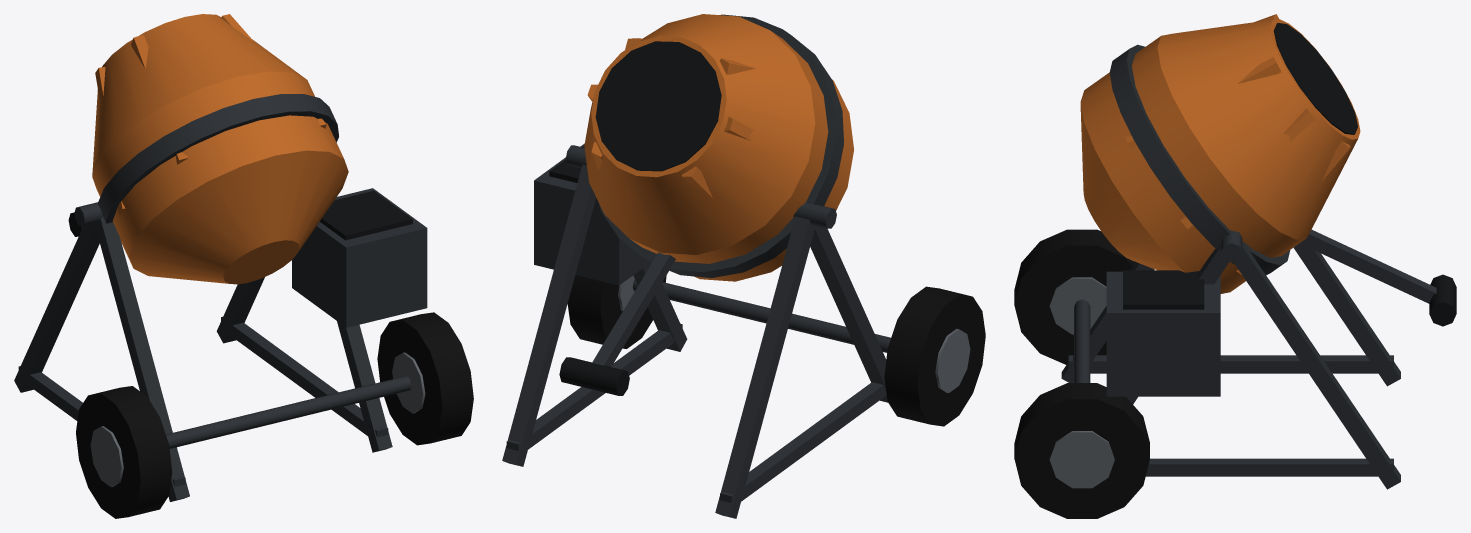
Rendered from gs-mixer.glb.
3 renders of one model, left to right at view 1: azimuth 30°, elevation 25°; view 2: azimuth 150°, elevation 25°; view 3: azimuth 270°, elevation 25°, orthographic. The views are drawn at different scales.
Visible parts, largest first — view 1: gs-mixer; view 2: gs-mixer; view 3: gs-mixer.
Boxes of the visible parts, x1,y1,x2,y2 form: gs-mixer: [14, 14, 473, 518]; gs-mixer: [502, 14, 985, 518]; gs-mixer: [1014, 14, 1456, 518].
Size of the model in its own units: 1.5 by 1.66 by 1.63.
